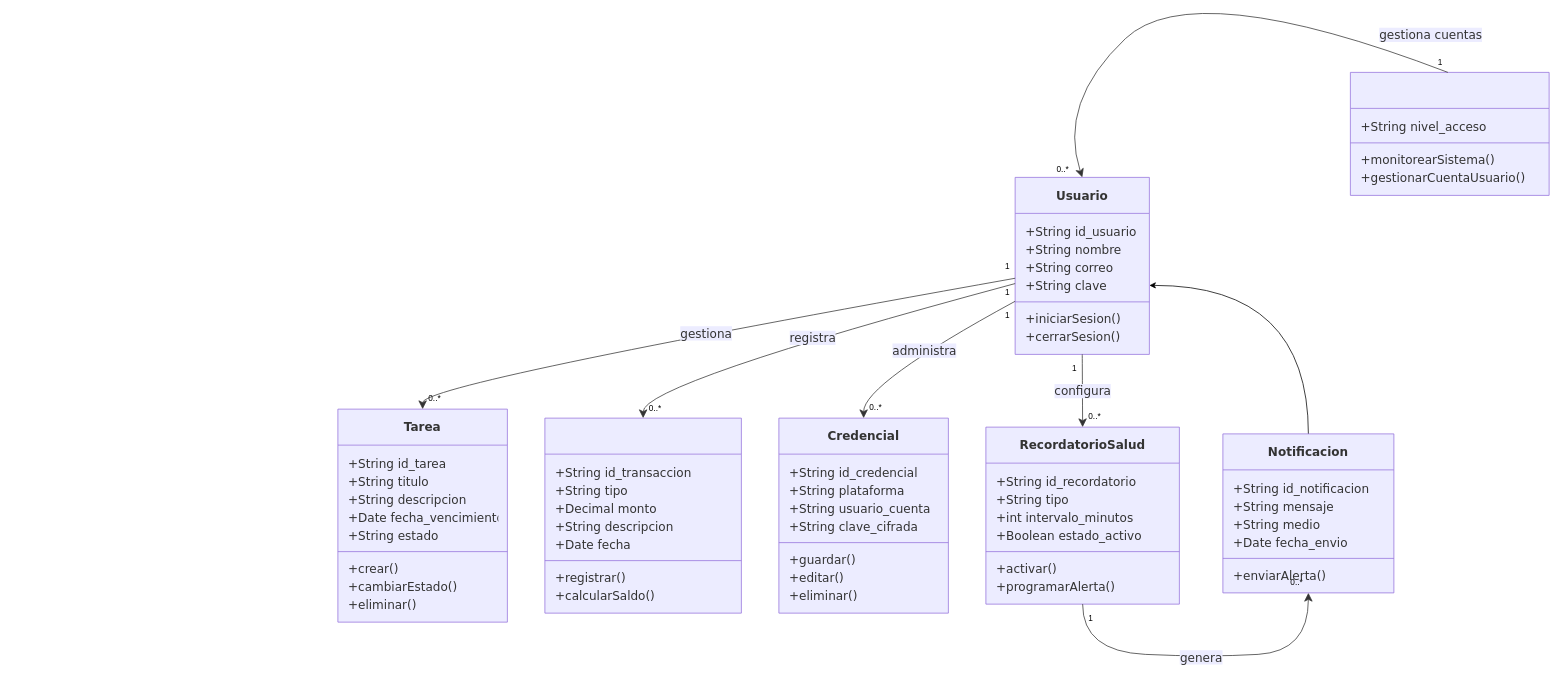
Image size: 1562x677. Some labels were removed from this diagram. The box of each missing label's shape, as (x1, y1, x2, y2) in pixels:
Administrador: (1350, 72, 1549, 195)
TransaccionFinanciera: (544, 417, 741, 613)
